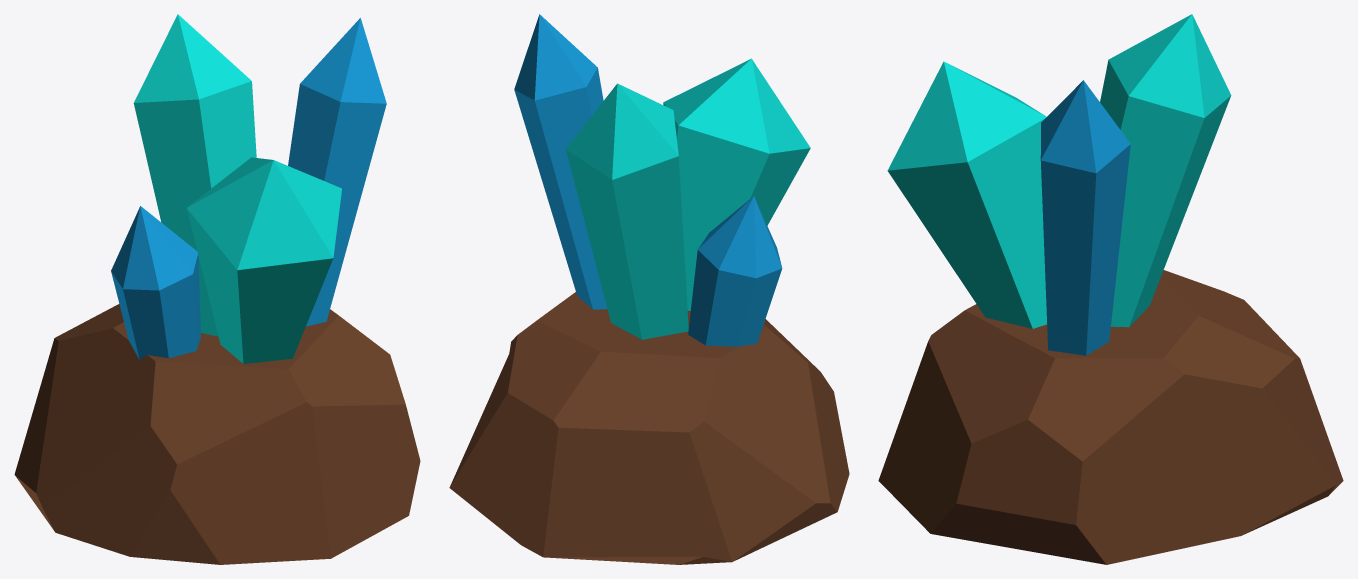
The model's file is MineralNode_12_A.fbx.
3 views of the same model, side by side, from view 1: azimuth 30°, elevation 25°; view 2: azimuth 150°, elevation 25°; view 3: azimuth 270°, elevation 25° (orthographic). The views are drawn at different scales.
Parts seen in each view (by area): view 1: MineralNode_12_A; view 2: MineralNode_12_A; view 3: MineralNode_12_A.
Part boxes in pixels (left/top/right/bottom): MineralNode_12_A: left=14, top=14, right=420, bottom=564; MineralNode_12_A: left=449, top=14, right=849, bottom=564; MineralNode_12_A: left=878, top=14, right=1343, bottom=564.
Bounding box in the file's own units: 81.16 × 98.79 × 88.32.
